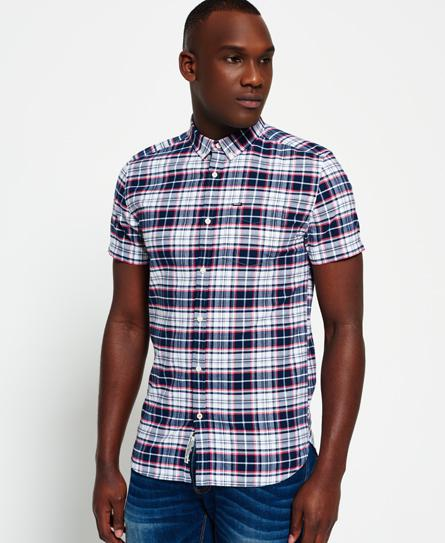teeshirt: (104, 106, 371, 494)
